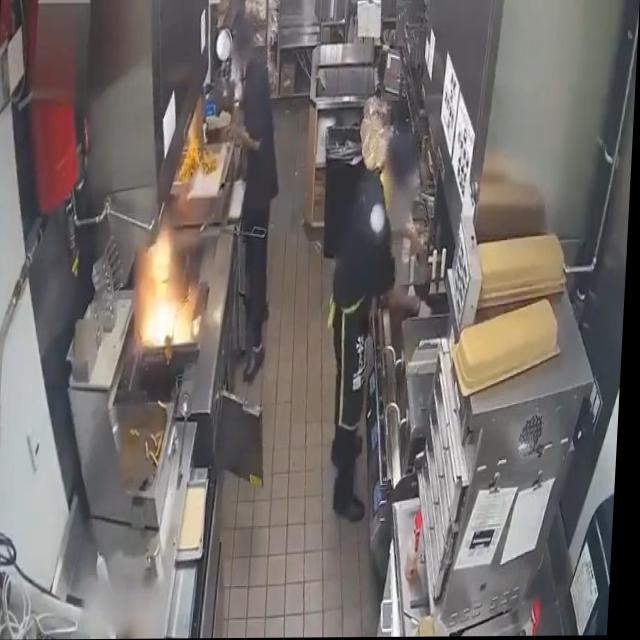fire: (142, 238, 200, 344)
